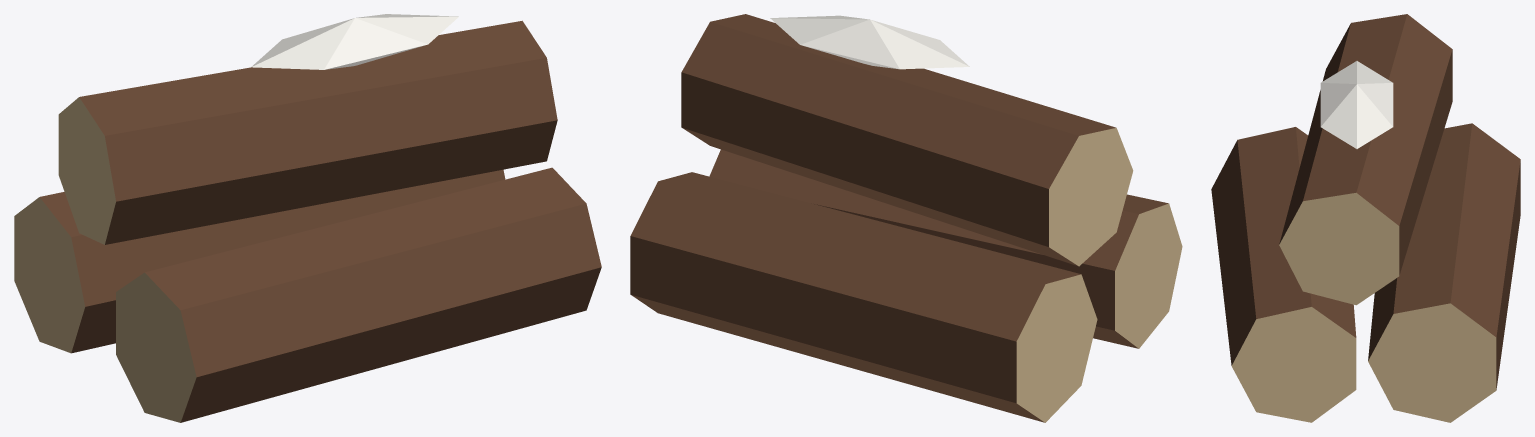
File: deco_firewood.obj
3 views of the same model, side by side, from view 1: azimuth 30°, elevation 25°; view 2: azimuth 150°, elevation 25°; view 3: azimuth 270°, elevation 25° (orthographic). The views are drawn at different scales.
Visible parts, largest first — view 1: deco_firewood; view 2: deco_firewood; view 3: deco_firewood.
Part boxes in pixels (box(x1,y1,x2,y2)): deco_firewood: box(14, 14, 601, 422); deco_firewood: box(630, 14, 1182, 422); deco_firewood: box(1211, 14, 1520, 422).
Bounding box in the file's own units: 0.0414 × 0.0285 × 0.0295.
1 material, 1 textured.
